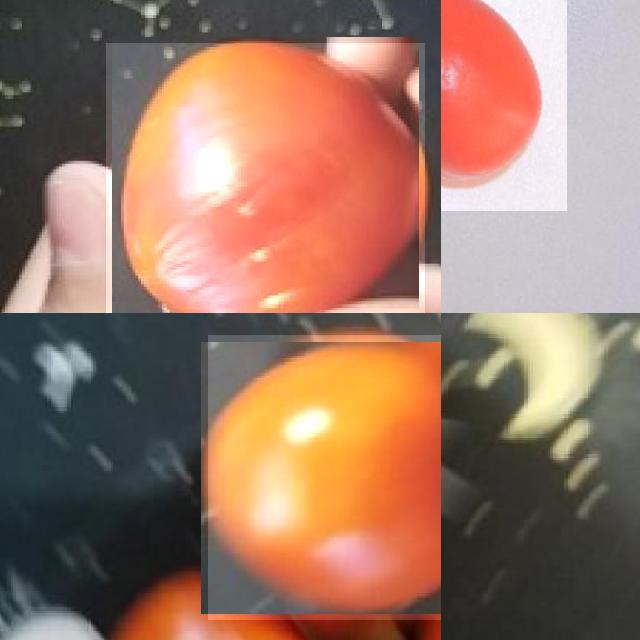Fresh Tomato: (207, 334, 441, 620), (441, 0, 567, 210), (82, 574, 340, 640)
Rotten Tomato: (105, 42, 425, 313)
